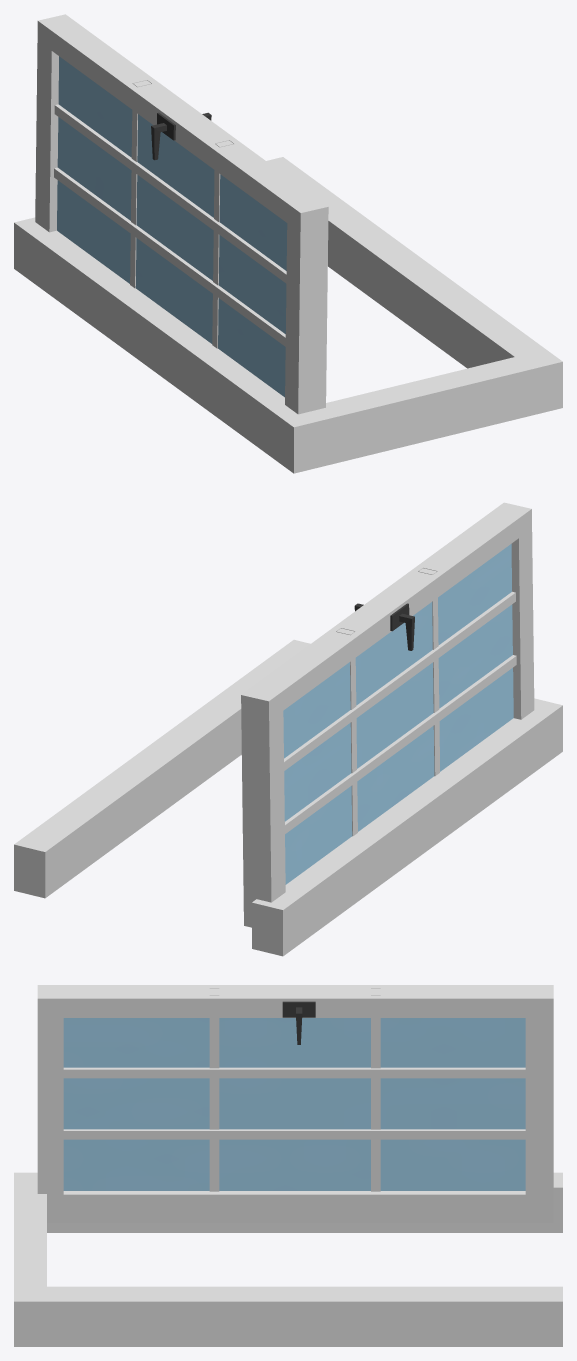
File: door_a_open.glb
3 views of the same model, one above another, from view 1: azimuth 30°, elevation 25°; view 2: azimuth 150°, elevation 25°; view 3: azimuth 270°, elevation 25° (orthographic).
Parts seen in each view (by area): view 1: door_001, door_frame_001; view 2: door_001, door_frame_001; view 3: door_001, door_frame_001.
Part boxes in pixels (<box>): door_001: <box>35,14,328,414</box>; door_frame_001: <box>14,157,562,473</box>; door_001: <box>241,502,534,927</box>; door_frame_001: <box>14,639,562,956</box>; door_001: <box>37,985,553,1222</box>; door_frame_001: <box>14,1172,562,1346</box>.
Bounding box in the file's own units: 1.34 × 1.18 × 2.41.
1 material, 1 textured.
